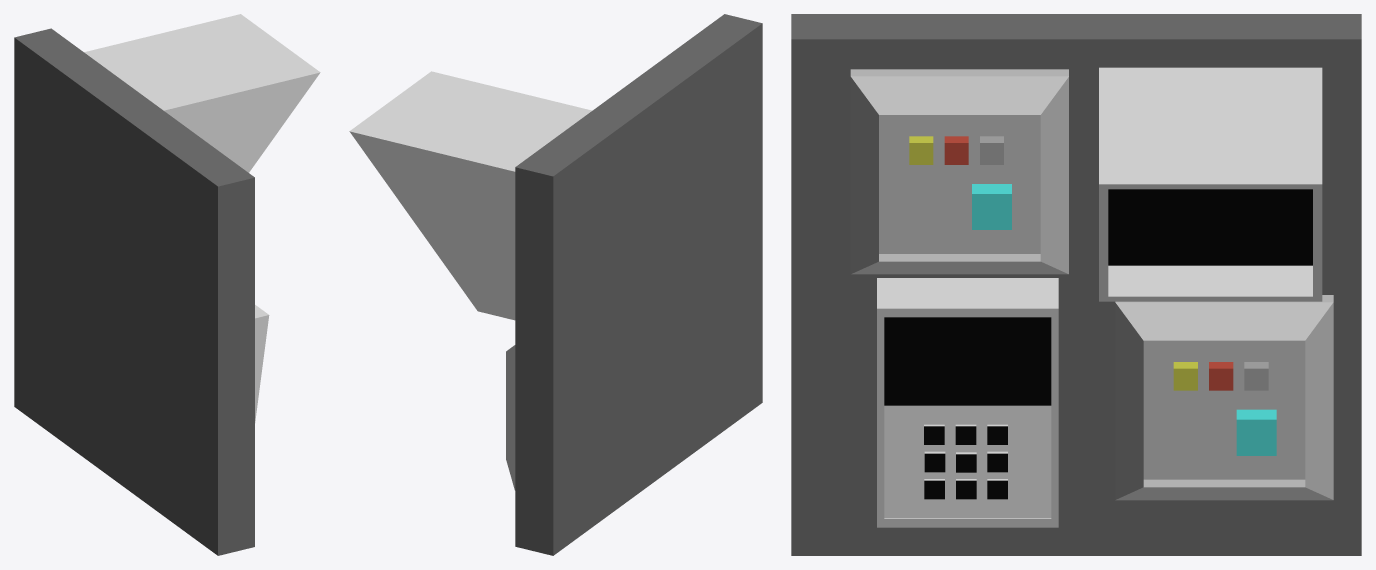
Rendered from prop_robertos_gizmos_combined_justin.fbx.
The picture shows the model from 3 angles, left to right: view 1: azimuth 30°, elevation 25°; view 2: azimuth 150°, elevation 25°; view 3: azimuth 270°, elevation 25°; orthographic projection. The views are drawn at different scales.
Visible parts, largest first — view 1: prop_gizmo_panel_roberto_combined; view 2: prop_gizmo_panel_roberto_combined; view 3: prop_gizmo_panel_roberto_combined.
Part boxes in pixels (x1,y1,x2,y2): prop_gizmo_panel_roberto_combined: (14,14,320,555); prop_gizmo_panel_roberto_combined: (349,14,762,555); prop_gizmo_panel_roberto_combined: (791,14,1361,555).
Size of the model in its own units: 0.461 by 0.7657 by 0.7657.
